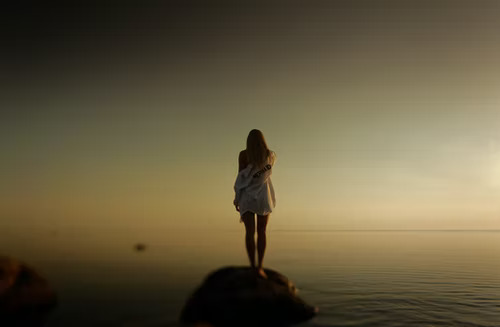person: (235, 129, 275, 279)
